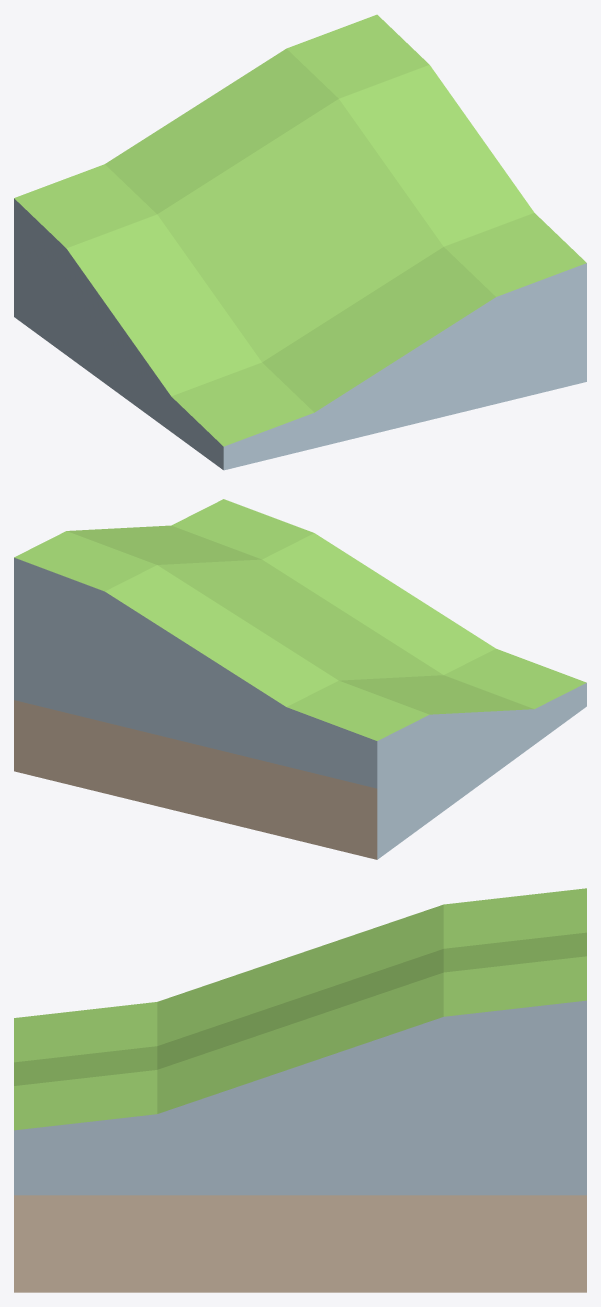
File: Grass_Hill_Gentle_Overlapping_Gentle_4x4.fbx
3 renders of one model, top to bottom at view 1: azimuth 30°, elevation 25°; view 2: azimuth 150°, elevation 25°; view 3: azimuth 270°, elevation 25°, orthographic. The views are drawn at different scales.
Parts seen in each view (by area): view 1: Grass_Hill_Gentle_Overlapping_Gentle_4x4; view 2: Grass_Hill_Gentle_Overlapping_Gentle_4x4; view 3: Grass_Hill_Gentle_Overlapping_Gentle_4x4.
Part boxes in pixels (left/top/right/bottom): Grass_Hill_Gentle_Overlapping_Gentle_4x4: left=14, top=14, right=586, bottom=470; Grass_Hill_Gentle_Overlapping_Gentle_4x4: left=14, top=499, right=586, bottom=859; Grass_Hill_Gentle_Overlapping_Gentle_4x4: left=14, top=888, right=586, bottom=1292.
Bounding box in the file's own units: 400 × 225 × 400.
